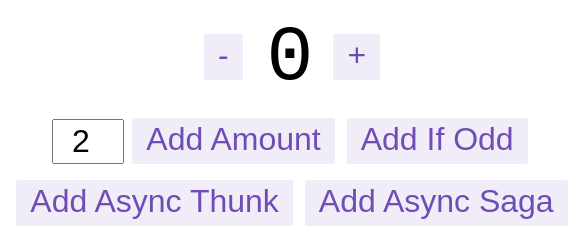
Test: Test <Counter> Sync Button › Increase Counter
Click the button with test id "increment": (357, 57) [333,34,380,80]
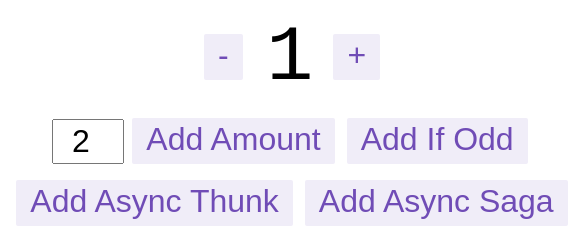
Expected: the text with test id "counterValue" reads "1", [267,14,313,102]
